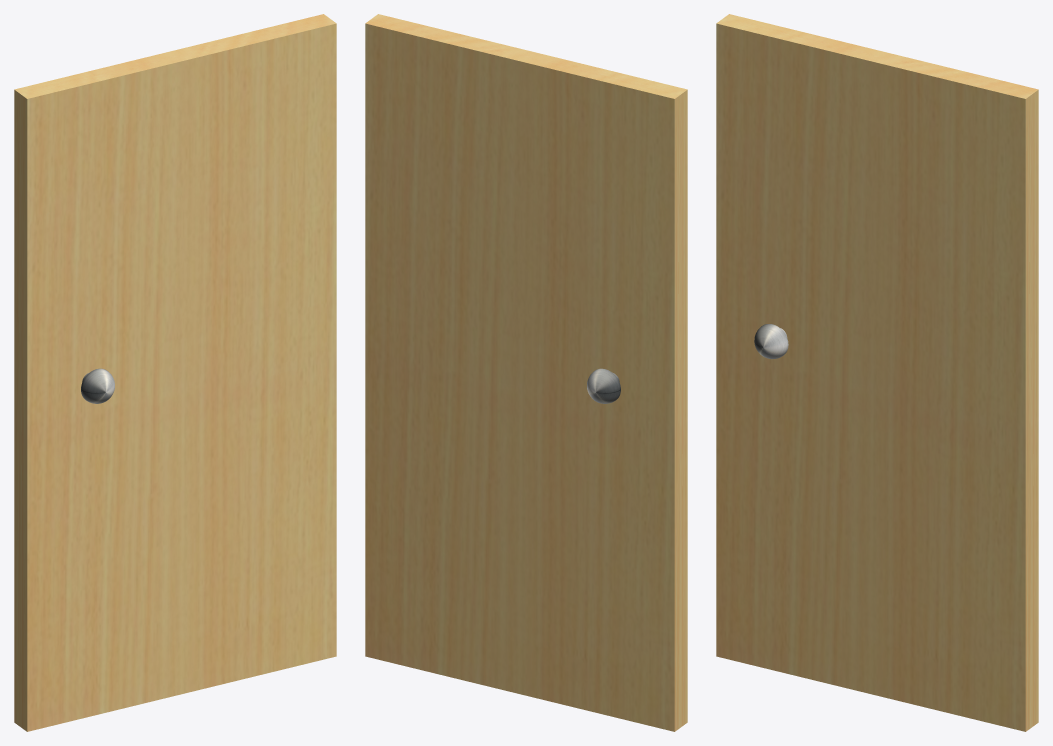
The model's file is LabDoor.fbx.
The picture shows the model from 3 angles, left to right: view 1: azimuth 30°, elevation 25°; view 2: azimuth 150°, elevation 25°; view 3: azimuth 330°, elevation 25°; orthographic projection.
Visible parts, largest first — view 1: Door, DoorKnob002; view 2: Door, DoorKnob1; view 3: Door, DoorKnob002.
Part boxes in pixels (left/top/right/bottom): Door: left=14, top=14, right=336, bottom=731; DoorKnob002: left=81, top=368, right=114, bottom=403; Door: left=365, top=14, right=687, bottom=731; DoorKnob1: left=587, top=368, right=620, bottom=403; Door: left=716, top=14, right=1038, bottom=731; DoorKnob002: left=754, top=324, right=788, bottom=359.
Bounding box in the file's own units: 41.32 × 80.74 × 10.29.
2 materials, 2 textured.
